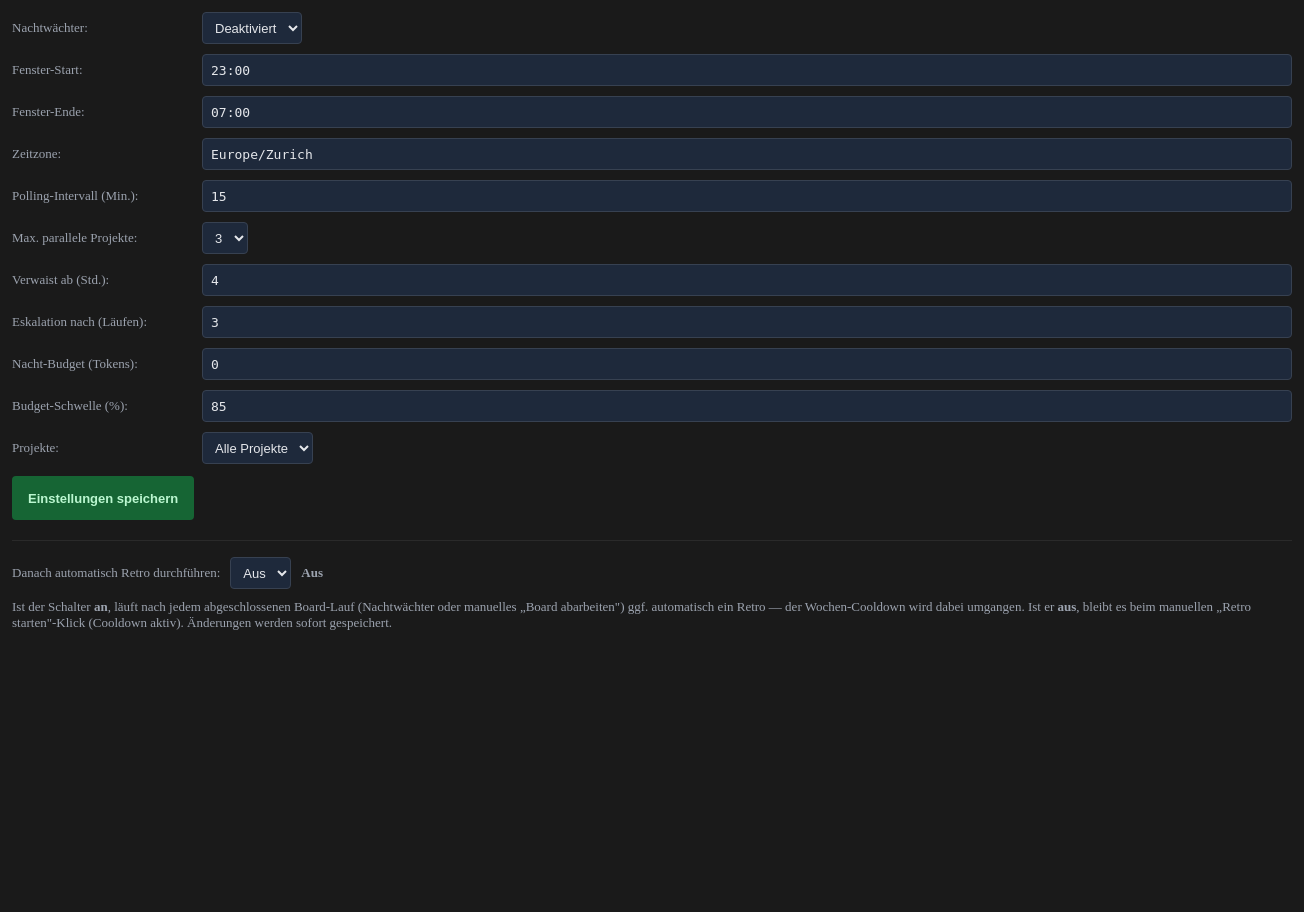
Scenario: NightWatchSettings — AC17: PUT mit geänderten Werten › night-budget-guard AC2: Client-Vorabprüfung — budgetThresholdPercent außerhalb 1–100 verhindert PUT + zeigt feldzugeordneten Fehler
Replace the text in the number field labelled "Budget-Schwelle (%):" with "101": (747, 406) [202,390,1292,422]
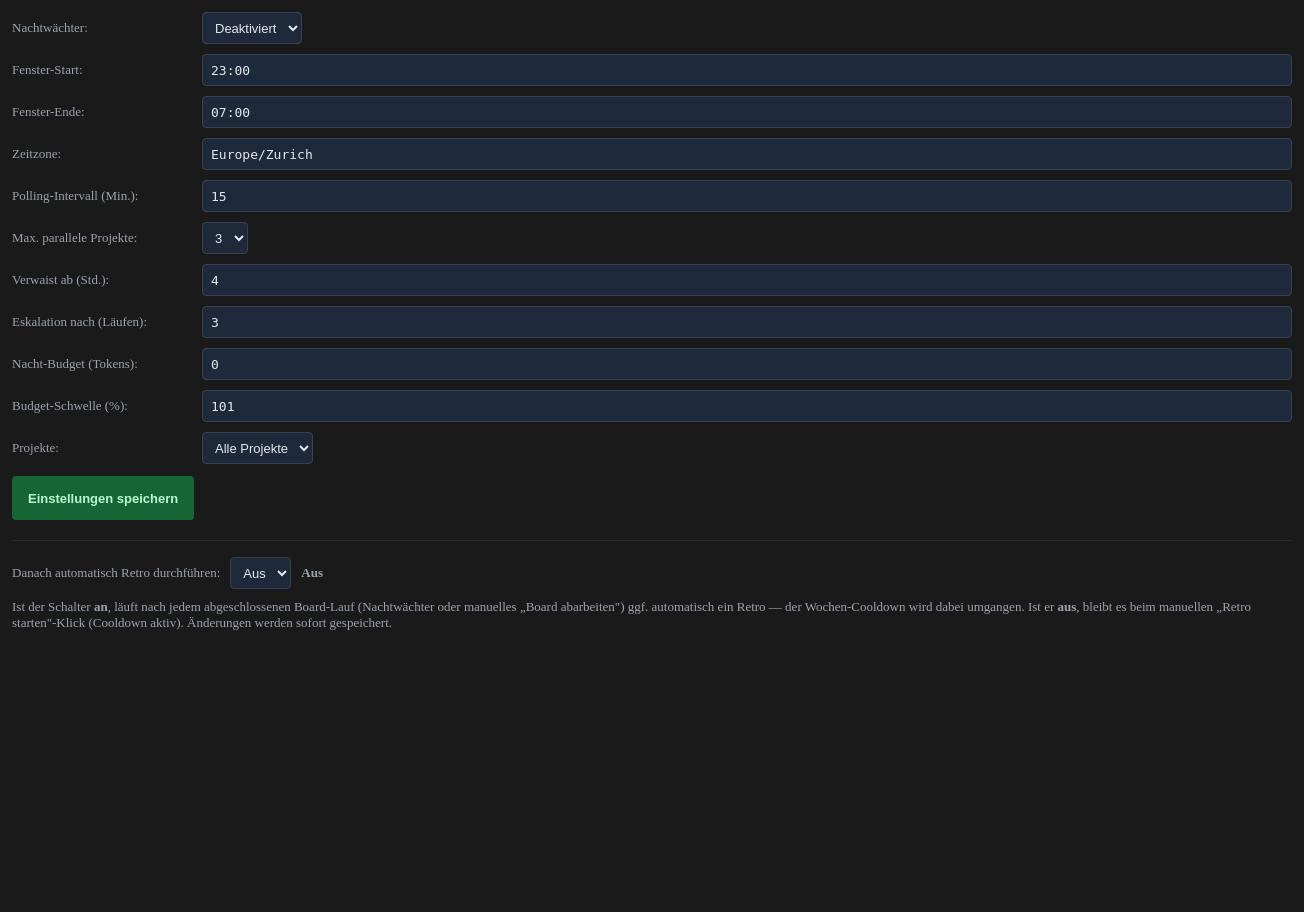
Click the button "Einstellungen speichern": (103, 498) [12,476,194,520]
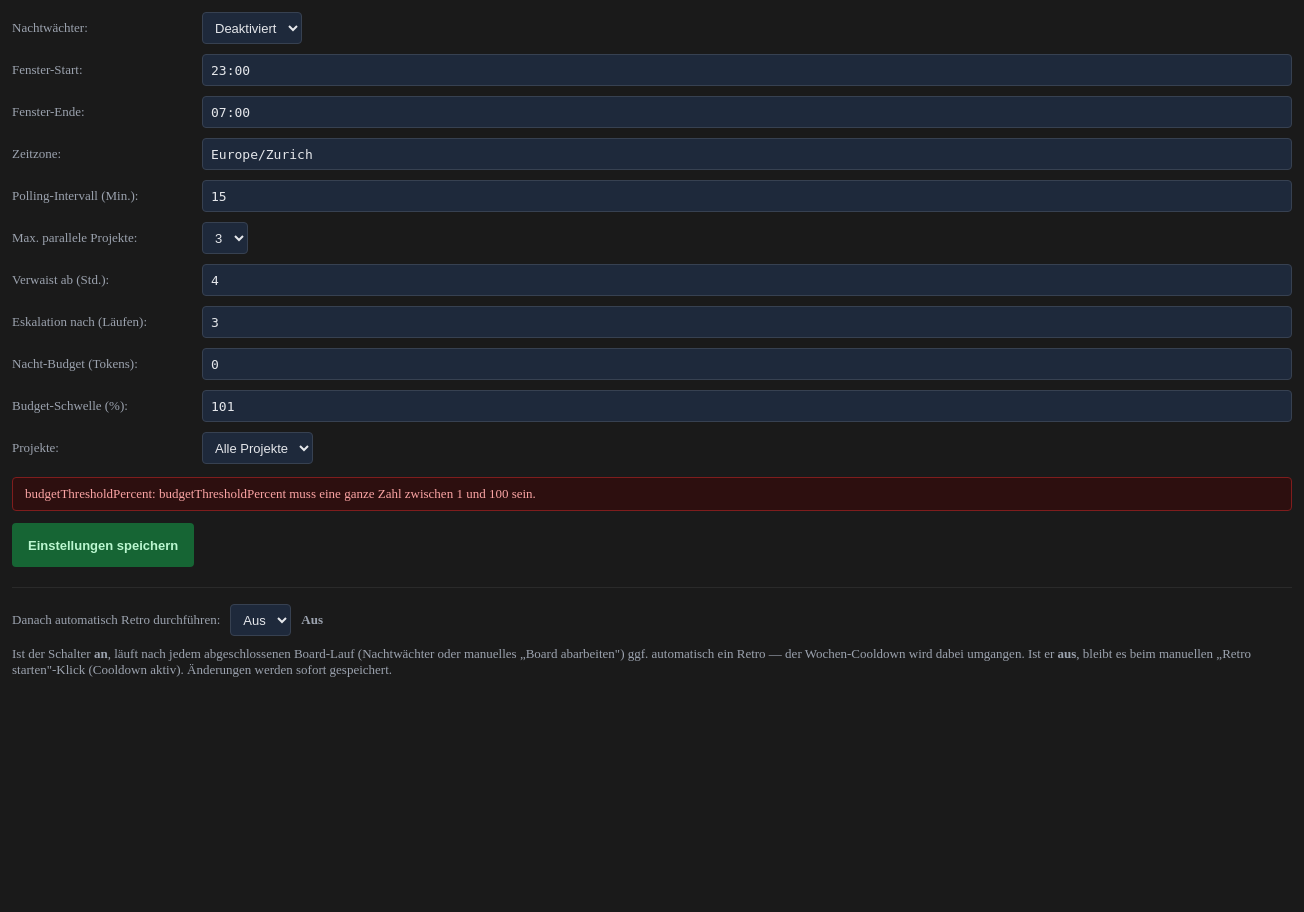
Check: the message shows "budgetThresholdPercent", box [25,486,536,501]
